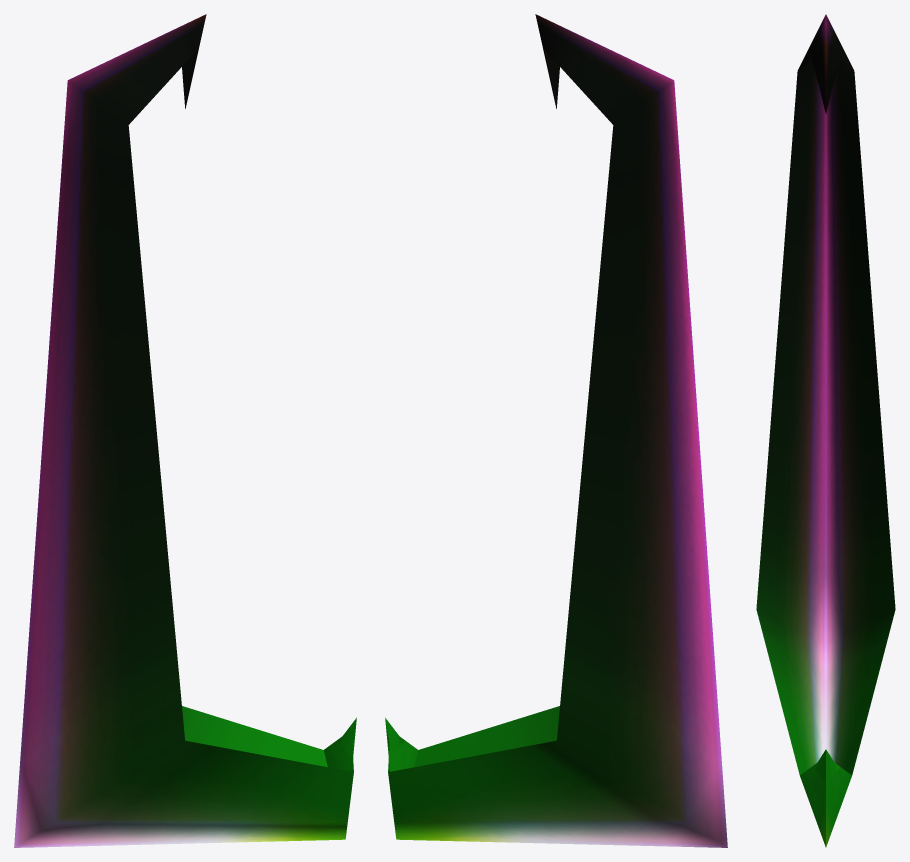
Rendered from Trail7_2.fbx.
3 views of the same model, side by side, from view 1: azimuth 30°, elevation 25°; view 2: azimuth 150°, elevation 25°; view 3: azimuth 270°, elevation 25° (orthographic). The views are drawn at different scales.
Visible parts, largest first — view 1: Eff_Model_Shougun_07_2; view 2: Eff_Model_Shougun_07_2; view 3: Eff_Model_Shougun_07_2.
Part boxes in pixels (x1,y1,x2,y2): Eff_Model_Shougun_07_2: (14,14,356,847); Eff_Model_Shougun_07_2: (385,14,727,847); Eff_Model_Shougun_07_2: (756,14,895,847).
Size of the model in its own units: 104 by 250 by 42.4.
